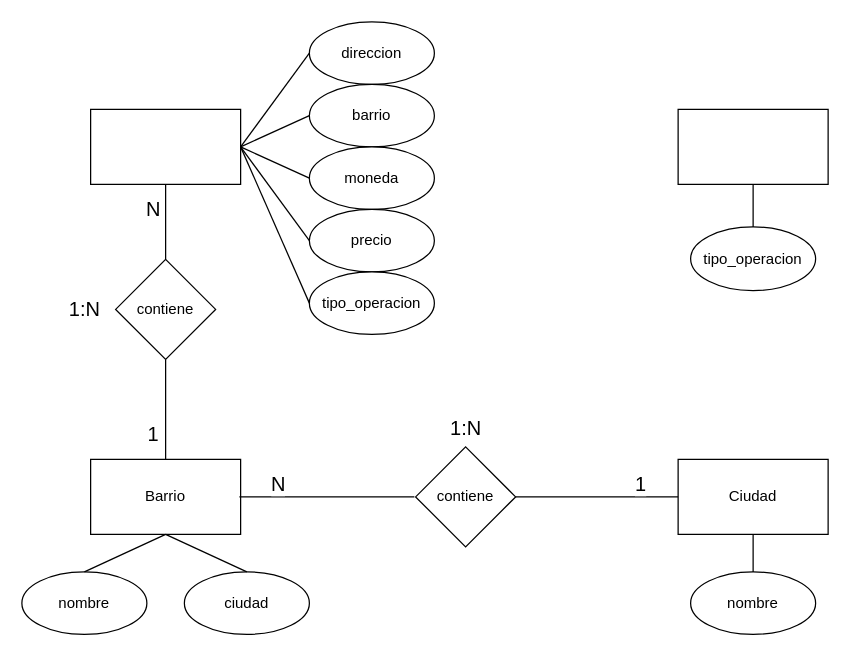
Image size: 850x656. Some labels were removed from this diagram. The shapes that lost their labels are listed below. From the top down, each one's centre as x and y in pixels, then its label:
At point 165,146: "Propiedad".
At point 752,146: "Filtro".
